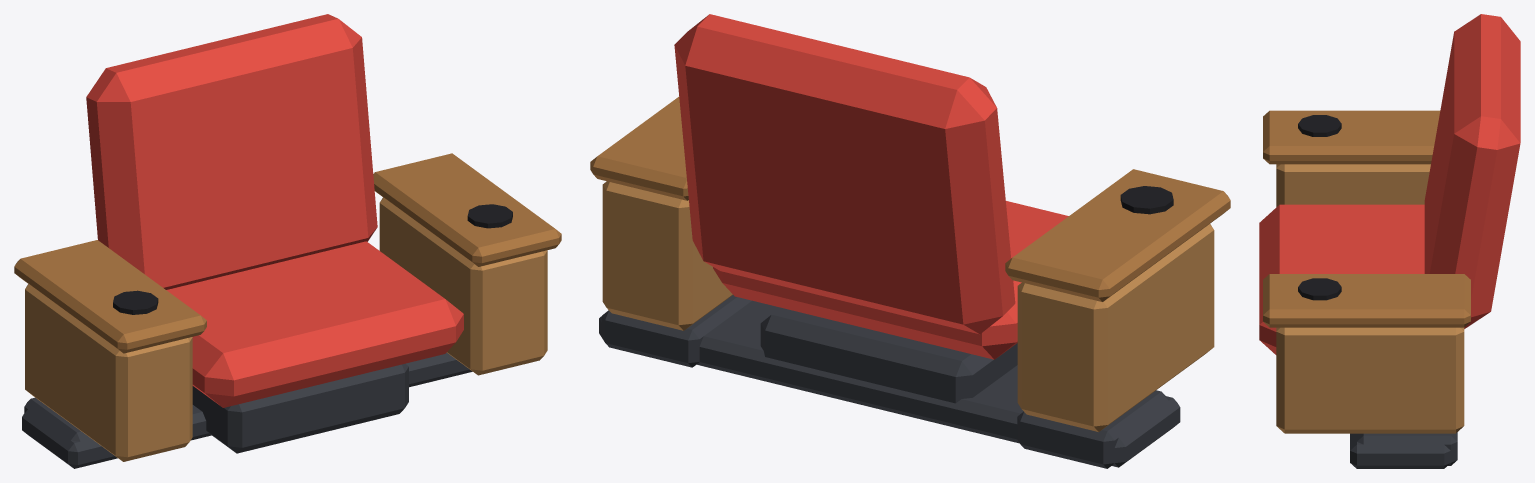
File: seat_single.glb
3 views of the same model, side by side, from view 1: azimuth 30°, elevation 25°; view 2: azimuth 150°, elevation 25°; view 3: azimuth 270°, elevation 25° (orthographic). The views are drawn at different scales.
Parts seen in each view (by area): view 1: seat_single; view 2: seat_single; view 3: seat_single.
Part boxes in pixels (x1,y1,x2,y2): seat_single: (14,14,561,468); seat_single: (590,14,1230,468); seat_single: (1259,14,1520,468).
Size of the model in its own units: 1.46 by 0.9961 by 0.7773.
